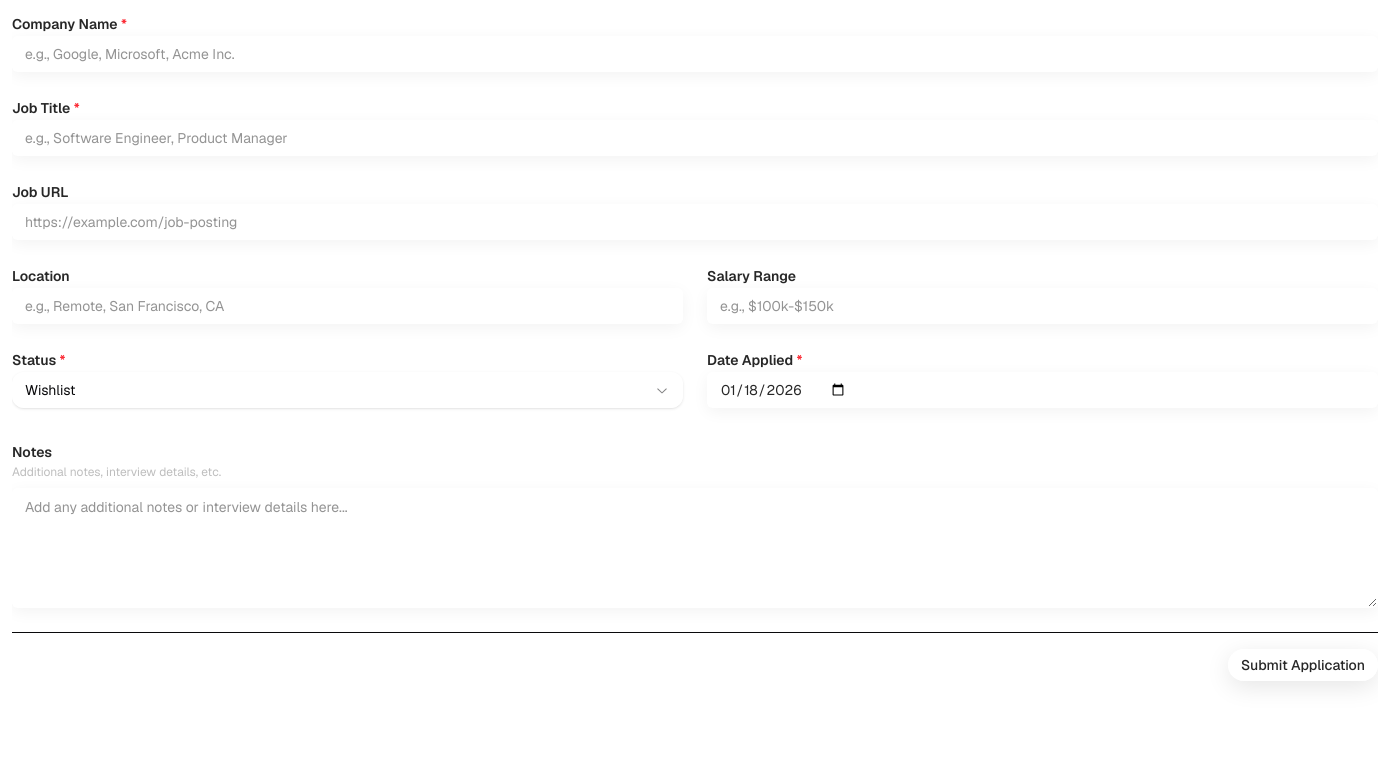
Test: ApplicationForm › Validation - Required Fields › should show error when job title is empty
Type "Test Company" into the field labelled "Company Name *" at (695, 54), box left=12, top=36, right=1378, bottom=72
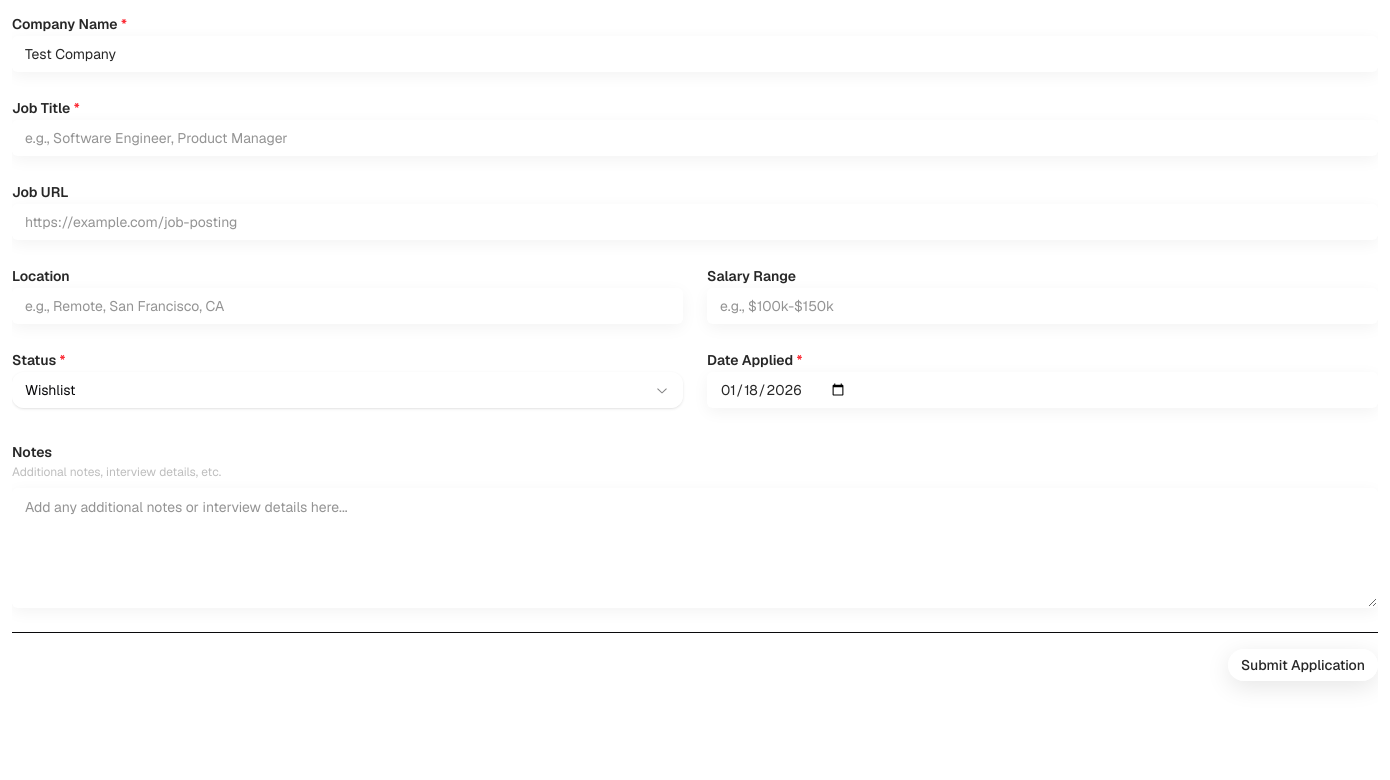
Click the button "Submit Application" at (1303, 665), box left=1228, top=649, right=1378, bottom=681
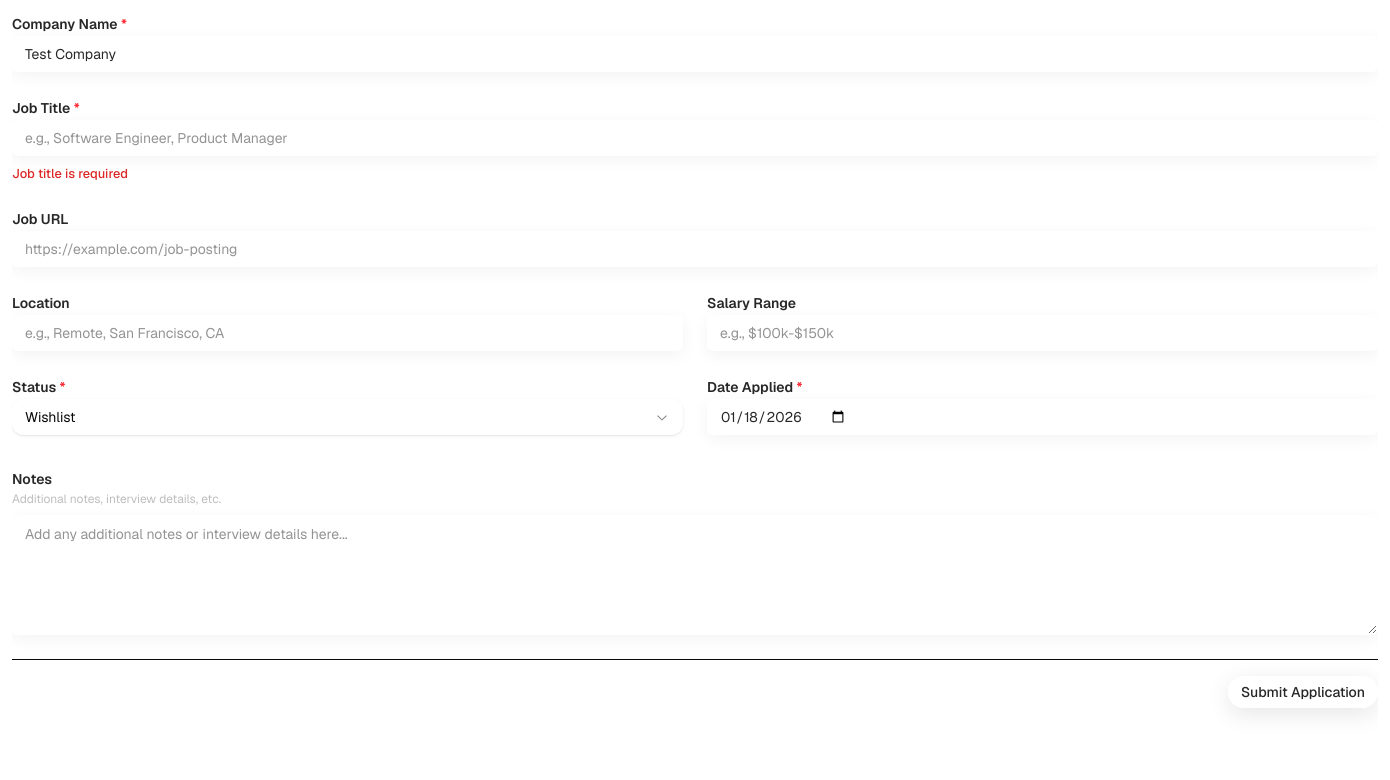
Expected: the text "Job title is required" is shown, left=12, top=165, right=128, bottom=182
